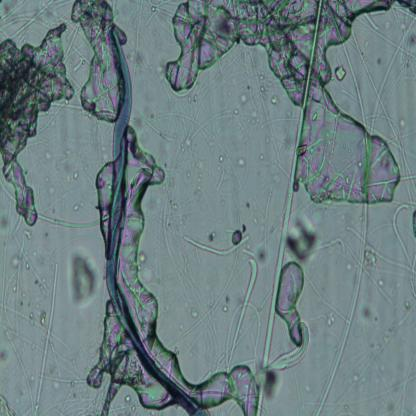Air bubble: (168, 1, 402, 206), (277, 263, 304, 346), (230, 227, 244, 247)
Background material: (0, 21, 75, 233), (68, 248, 101, 306), (335, 65, 347, 84), (178, 213, 187, 226), (236, 157, 246, 168), (270, 93, 279, 105), (241, 92, 248, 104), (219, 152, 226, 162), (406, 299, 412, 309)
Cotton: (107, 28, 208, 415)
Glass filter fibre: (257, 106, 306, 414), (308, 204, 370, 414), (31, 262, 60, 414), (222, 258, 259, 372), (345, 238, 394, 306), (357, 12, 416, 61), (266, 320, 314, 374), (342, 43, 368, 130), (12, 231, 32, 339), (393, 202, 416, 294), (10, 2, 58, 39), (179, 232, 250, 254), (34, 211, 100, 229), (215, 168, 226, 196), (364, 13, 380, 31), (72, 56, 86, 72), (242, 246, 256, 258)
